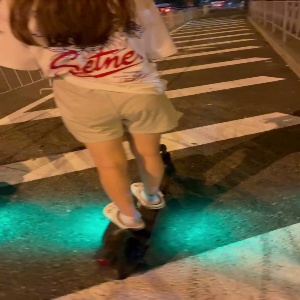human on a scooter: (1, 1, 183, 283)
